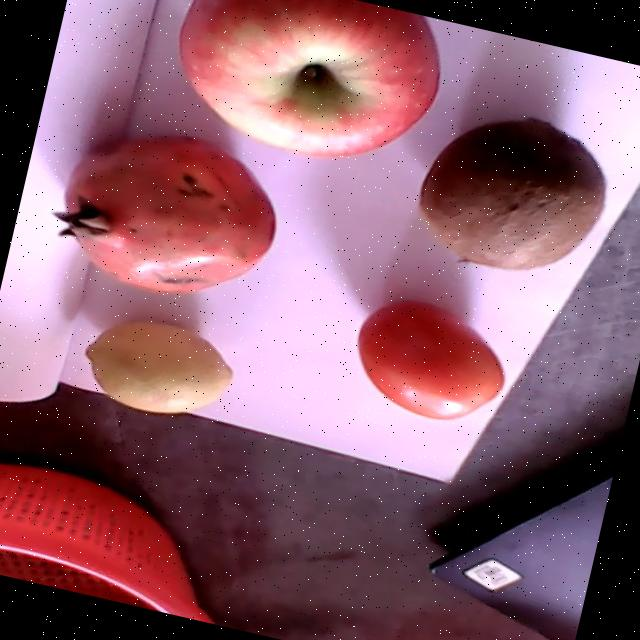apple: (181, 0, 439, 159)
kiwi: (419, 116, 605, 267)
lemon: (84, 321, 232, 413)
pomegranate: (50, 134, 274, 294)
tomato: (355, 299, 504, 419)
